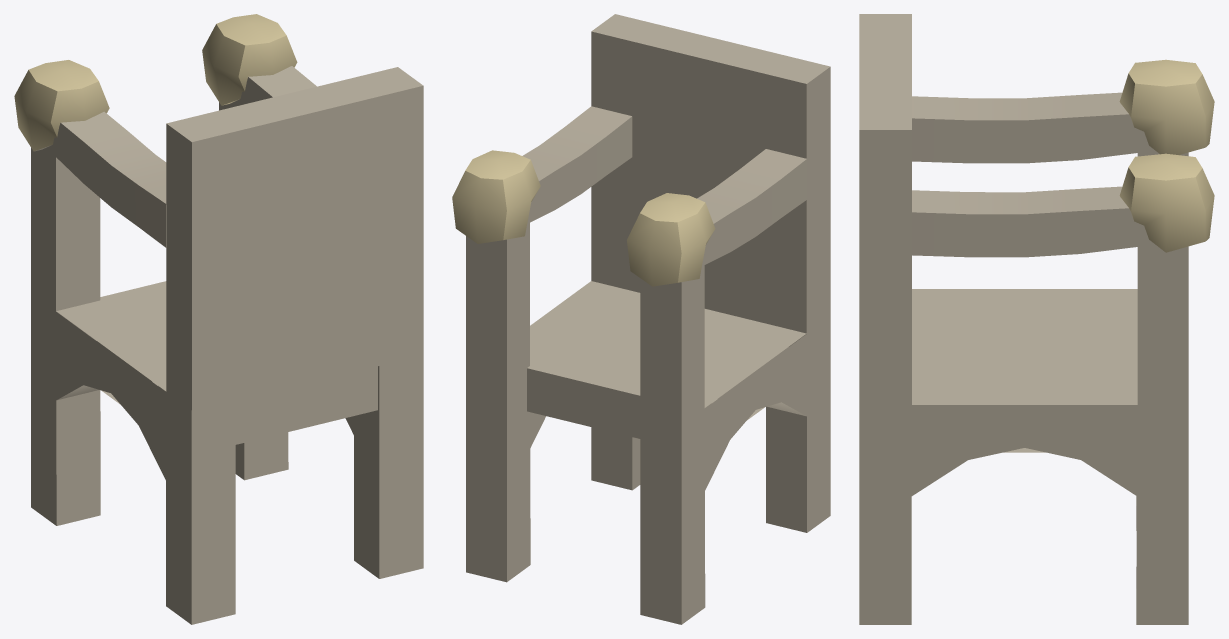
The model's file is chaisetext.fbx.
3 renders of one model, left to right at view 1: azimuth 30°, elevation 25°; view 2: azimuth 150°, elevation 25°; view 3: azimuth 270°, elevation 25°, orthographic. The views are drawn at different scales.
Parts seen in each view (by area): view 1: Assise, Bras_d.001; view 2: Assise, Bras_d.001; view 3: Assise, Bras_d.001.
Boxes of the visible parts, x1,y1,x2,y2 form: Assise: (31, 66, 423, 624); Bras_d.001: (14, 14, 297, 151); Assise: (466, 14, 830, 624); Bras_d.001: (452, 150, 715, 286); Assise: (859, 14, 1188, 624); Bras_d.001: (1119, 59, 1214, 252).
Bounding box in the file's own units: 355 × 626 × 407.
